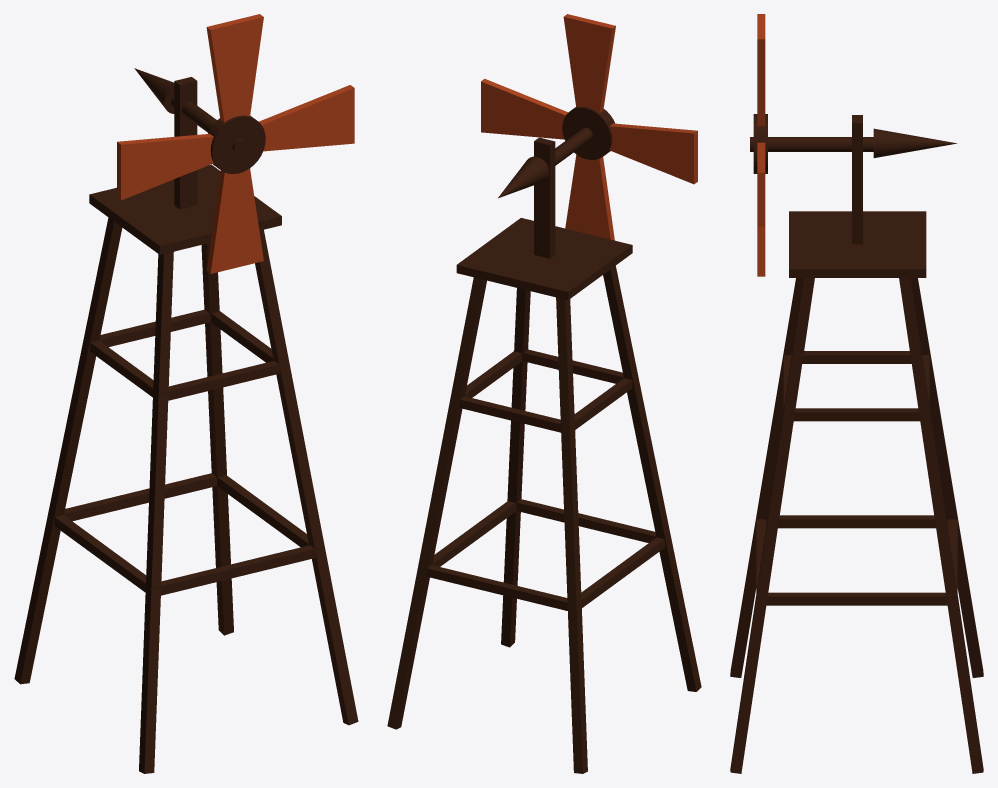
The model's file is Mill.obj.
The picture shows the model from 3 angles, left to right: view 1: azimuth 30°, elevation 25°; view 2: azimuth 150°, elevation 25°; view 3: azimuth 270°, elevation 25°; orthographic projection. The views are drawn at different scales.
Parts seen in each view (by area): view 1: Cube.001; view 2: Cube.001; view 3: Cube.001.
Boxes of the visible parts, left/top/right/bottom form: Cube.001: left=14, top=14, right=358, bottom=773; Cube.001: left=387, top=14, right=701, bottom=773; Cube.001: left=730, top=14, right=983, bottom=773.
Bounding box in the file's own units: 7.5 × 22 × 7.24.
